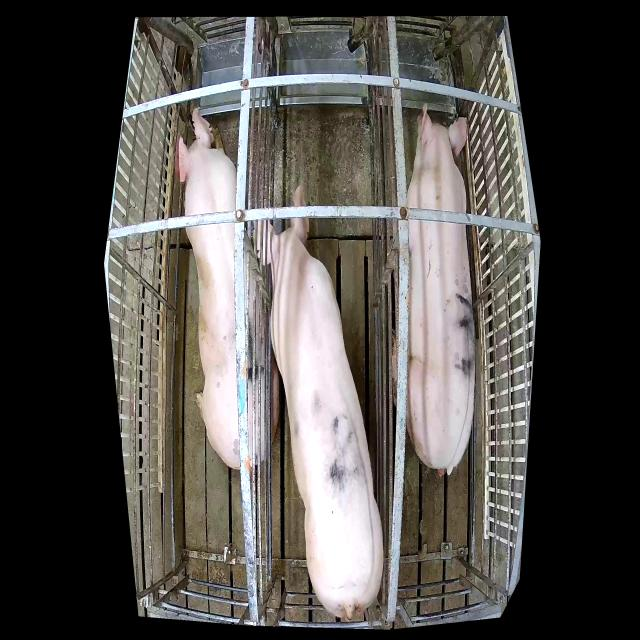pig: (253, 185, 383, 622), (174, 107, 279, 467), (406, 103, 476, 476)
